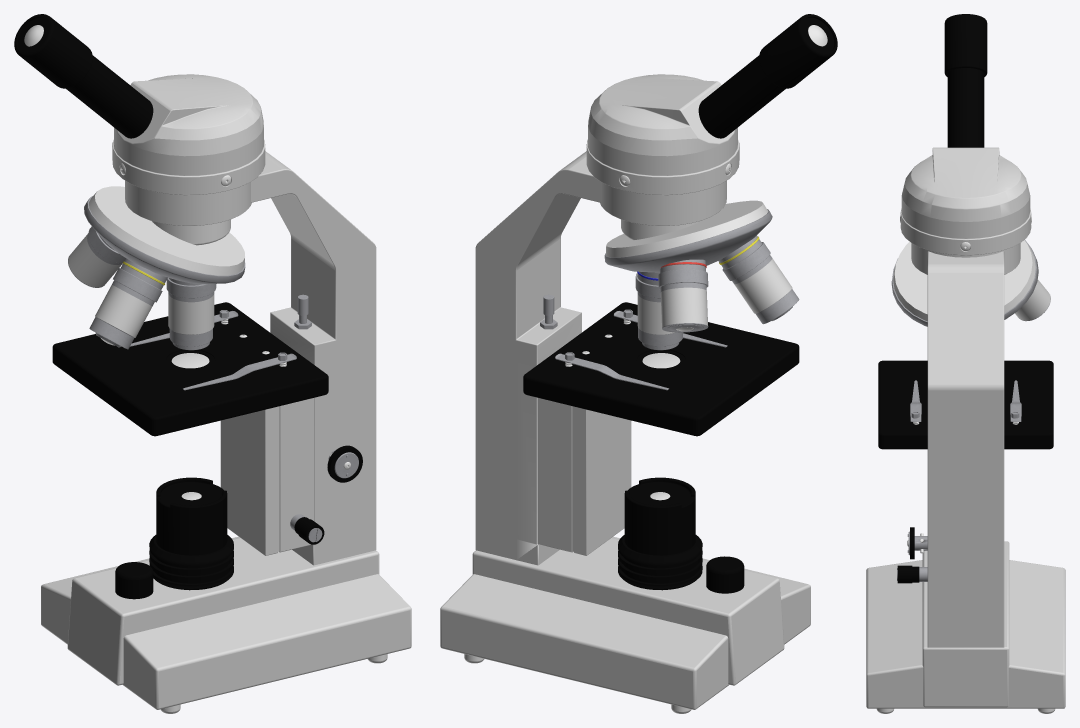
The model's file is microscope.fbx.
3 renders of one model, left to right at view 1: azimuth 30°, elevation 25°; view 2: azimuth 150°, elevation 25°; view 3: azimuth 270°, elevation 25°, orthographic. The views are drawn at different scales.
Visible parts, largest first — view 1: Cube.017, Cube.015, Cube.018, Cylinder.036, Cube.016, Cylinder.011, Cylinder.020, Cylinder.029, Cylinder.040, Cylinder.039, Cylinder.041, Cylinder.035 (+2 smaller); view 2: Cube.017, Cube.015, Cube.018, Cylinder.036, Cube.016, Cylinder.011, Cylinder.029, Cylinder.020, Cylinder.040, Cylinder.039, Cylinder.041, Plane.011 (+1 smaller); view 3: Cube.017, Cube.015, Cylinder.036, Cube.018, Cube.016, Cylinder.029, Cylinder.020, Cylinder.011, Plane.011, Cylinder.033.
Boxes of the visible parts, <box> form: Cube.017: <box>220,151,376,565</box>; Cube.015: <box>41,536,411,709</box>; Cube.018: <box>52,302,328,436</box>; Cylinder.036: <box>112,74,265,225</box>; Cube.016: <box>67,538,379,685</box>; Cylinder.011: <box>68,226,216,350</box>; Cylinder.020: <box>84,186,245,284</box>; Cylinder.029: <box>14,14,153,138</box>; Cylinder.040: <box>156,477,227,555</box>; Cylinder.039: <box>149,535,233,590</box>; Cylinder.041: <box>115,562,153,599</box>; Cylinder.035: <box>152,219,230,245</box>; Cube.017: <box>475,151,631,565</box>; Cube.015: <box>440,536,810,709</box>; Cube.018: <box>523,302,799,436</box>; Cylinder.036: <box>586,74,739,225</box>; Cube.016: <box>472,538,784,685</box>; Cylinder.011: <box>635,235,799,350</box>; Cylinder.029: <box>698,14,837,138</box>; Cylinder.020: <box>604,200,772,272</box>; Cylinder.040: <box>624,477,695,555</box>; Cylinder.039: <box>618,535,702,590</box>; Cylinder.041: <box>706,556,744,593</box>; Plane.011: <box>555,311,727,390</box>; Cube.017: <box>927,251,1004,647</box>; Cube.015: <box>866,560,1065,708</box>; Cylinder.036: <box>900,147,1031,274</box>; Cube.018: <box>878,360,1053,449</box>; Cube.016: <box>922,541,1009,707</box>; Cylinder.029: <box>944,14,987,147</box>; Cylinder.020: <box>891,239,1038,326</box>; Cylinder.011: <box>1015,279,1050,321</box>; Plane.011: <box>910,380,1021,421</box>; Cylinder.033: <box>897,565,919,583</box>.
Bounding box in the file's own units: 0.2333 × 0.1402 × 0.4497.
